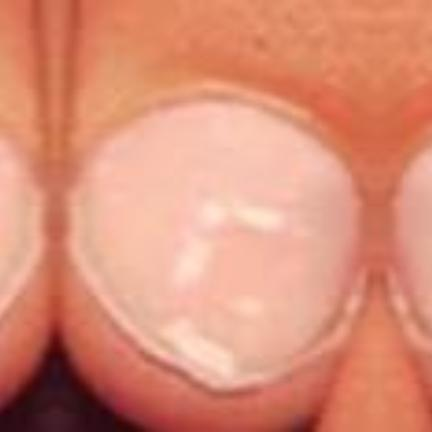Nail: (66, 101, 362, 391), (0, 136, 44, 319), (391, 144, 432, 340)
